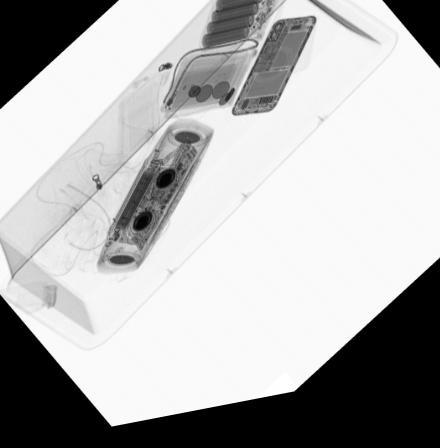Powerbank: (201, 0, 276, 56)
